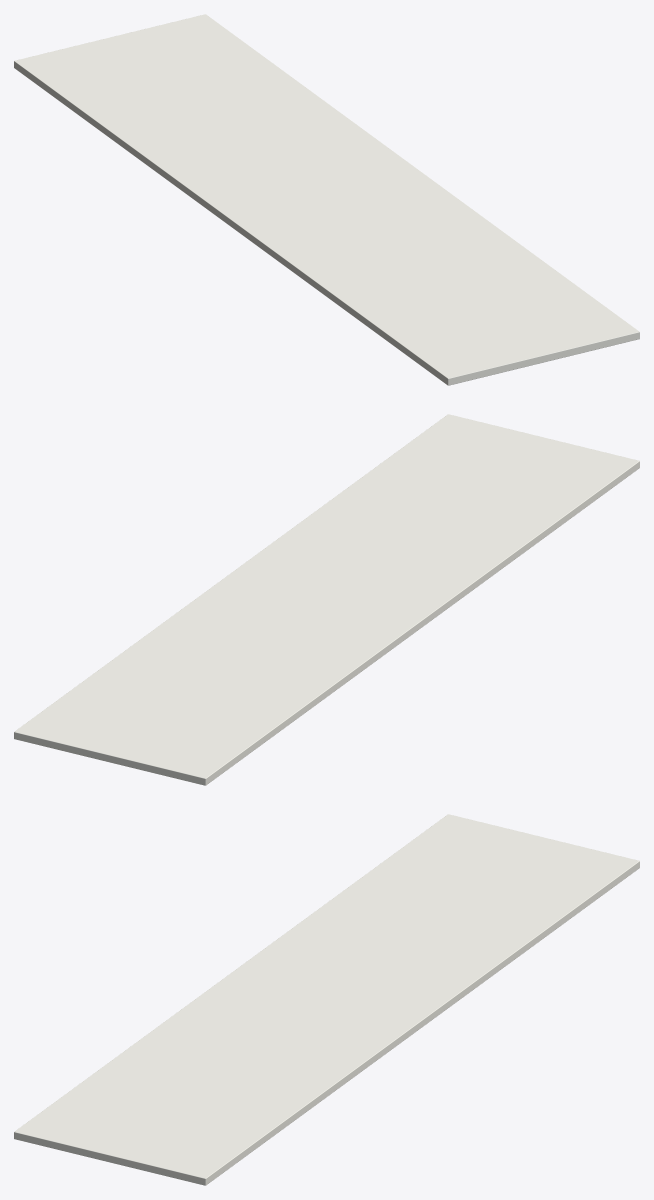
Rendered from 35 - FORSAND Door - white 50x195 cm.glb.
3 renders of one model, top to bottom at view 1: azimuth 30°, elevation 25°; view 2: azimuth 150°, elevation 25°; view 3: azimuth 330°, elevation 25°, orthographic.
Parts seen in each view (by area): view 1: 40391092-FORSAND001; view 2: 40391092-FORSAND001; view 3: 40391092-FORSAND001.
Part boxes in pixels (box(x1,y1,x2,y2)): 40391092-FORSAND001: box(14, 14, 639, 385); 40391092-FORSAND001: box(14, 414, 639, 785); 40391092-FORSAND001: box(14, 814, 639, 1185).
Bounding box in the file's own units: 0.4955 × 0.018 × 1.94.
1 material, 1 textured.
